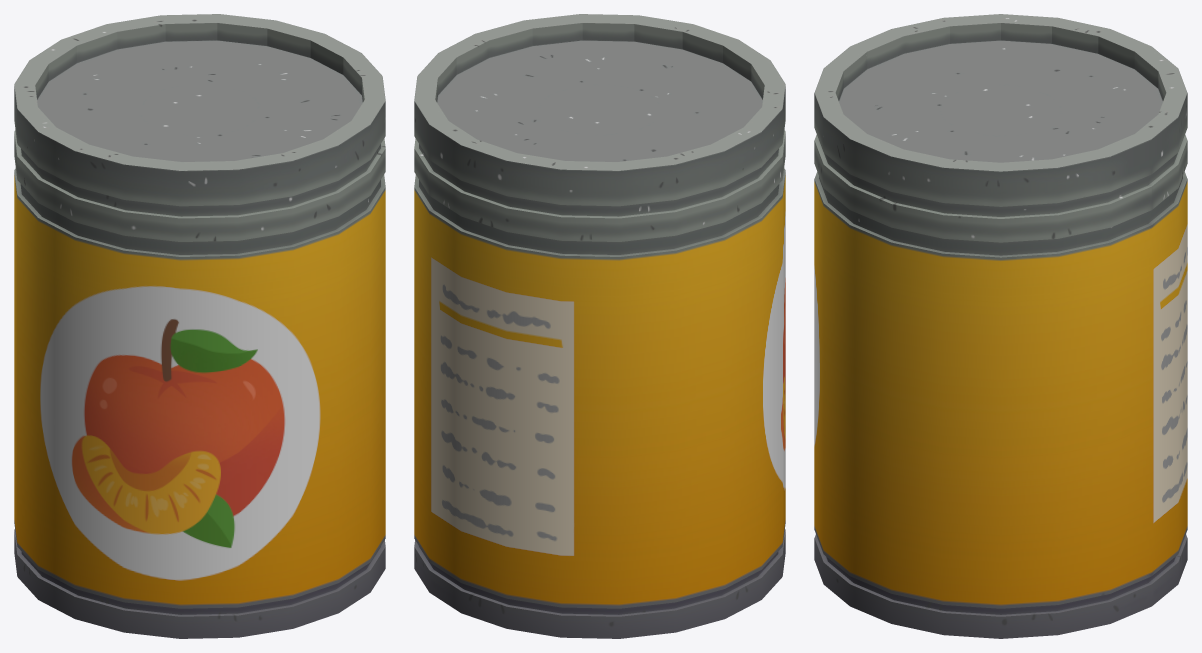
Rendered from Canned_fruit (2).fbx.
The picture shows the model from 3 angles, left to right: view 1: azimuth 30°, elevation 25°; view 2: azimuth 150°, elevation 25°; view 3: azimuth 270°, elevation 25°; orthographic projection.
Parts seen in each view (by area): view 1: Canned_fruit; view 2: Canned_fruit; view 3: Canned_fruit.
Part boxes in pixels (x1=…): Canned_fruit: x1=14, y1=14, x2=385, y2=638; Canned_fruit: x1=414, y1=14, x2=785, y2=638; Canned_fruit: x1=814, y1=14, x2=1187, y2=638.
Bounding box in the file's own units: 16.31 × 22.55 × 16.31.
1 material, 1 textured.
